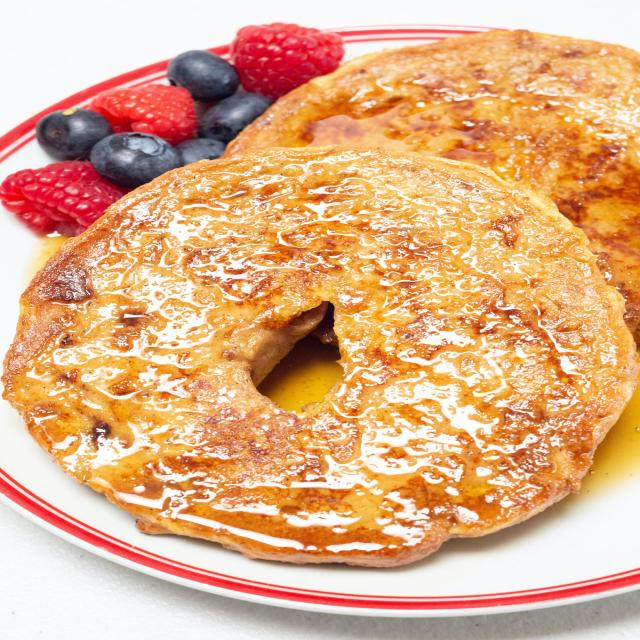Bagel: (4, 148, 638, 566), (225, 30, 639, 340)
